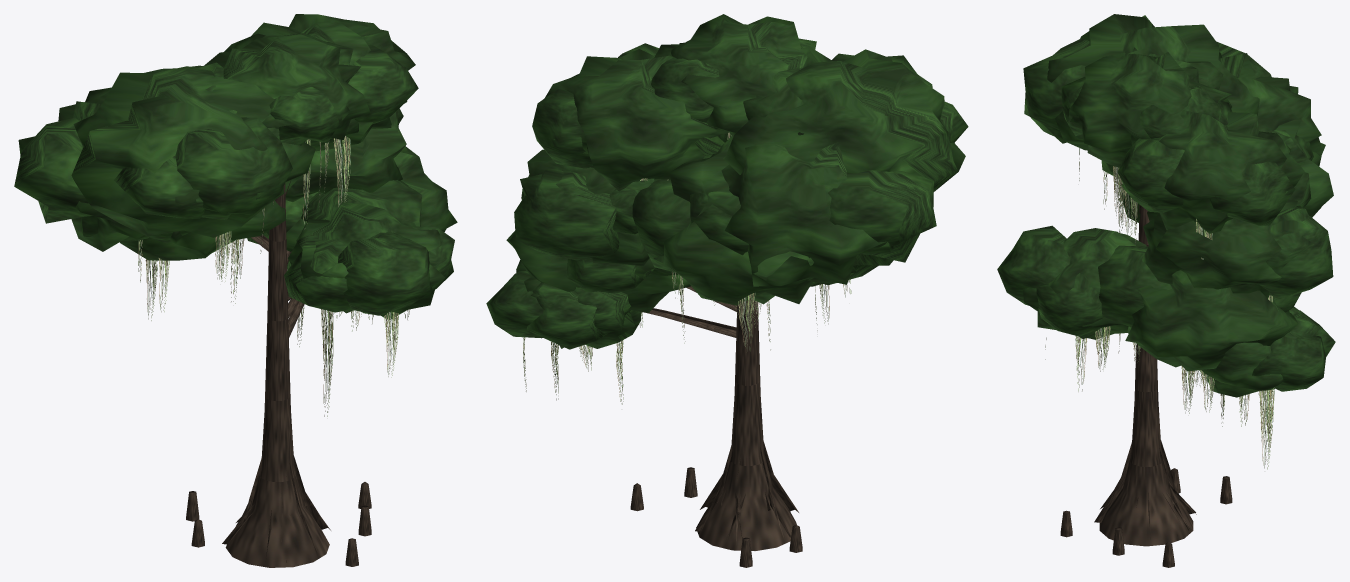
File: cypress_2.glb
The picture shows the model from 3 angles, left to right: view 1: azimuth 30°, elevation 25°; view 2: azimuth 150°, elevation 25°; view 3: azimuth 270°, elevation 25°; orthographic projection. The views are drawn at different scales.
Parts seen in each view (by area): view 1: cypress; view 2: cypress; view 3: cypress.
Boxes of the visible parts, x1,y1,x2,y2 form: cypress: [14, 14, 457, 567]; cypress: [486, 14, 968, 567]; cypress: [997, 14, 1335, 567].
Size of the model in its own units: 13.83 by 16.16 by 10.54.
3 materials, 3 textured.
